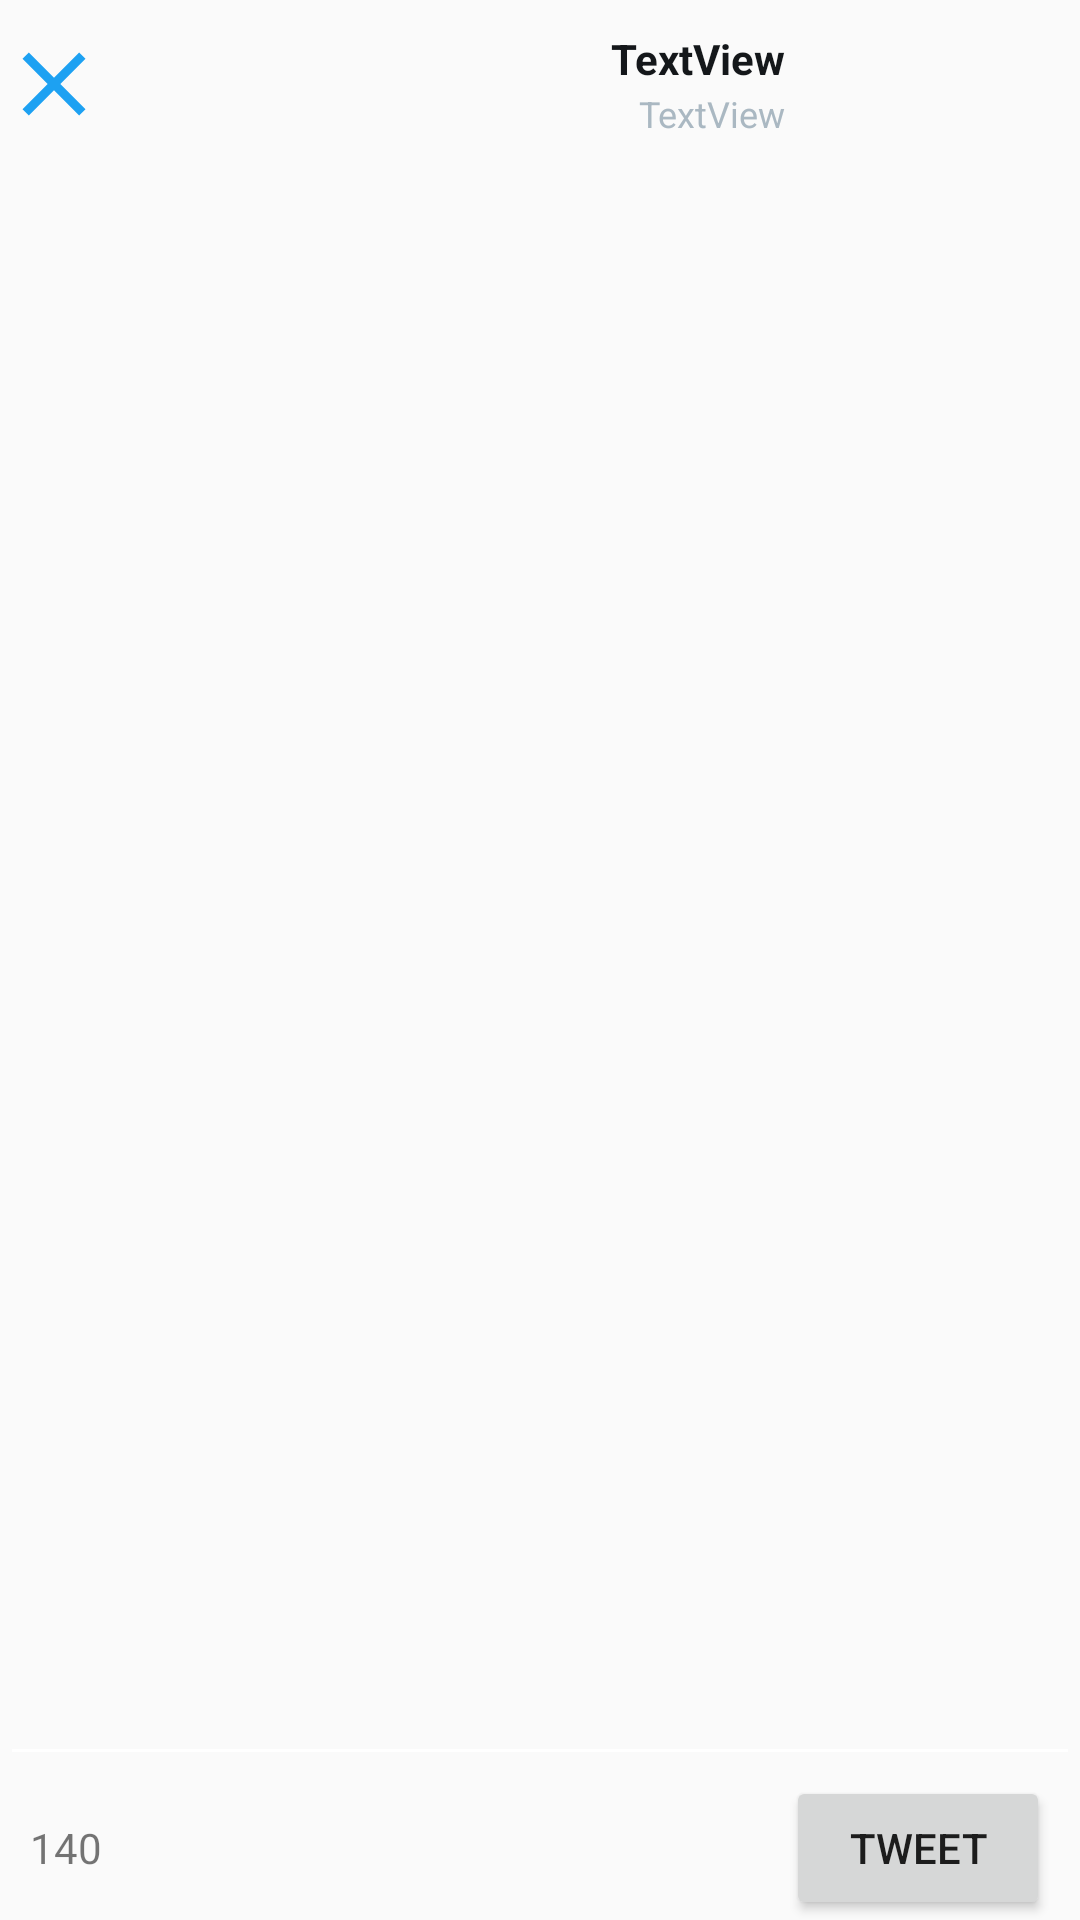

Icon click points for this 1080px x 1920px phone screenshot, format (x=x, y=y):
close: (x=54, y=84)
